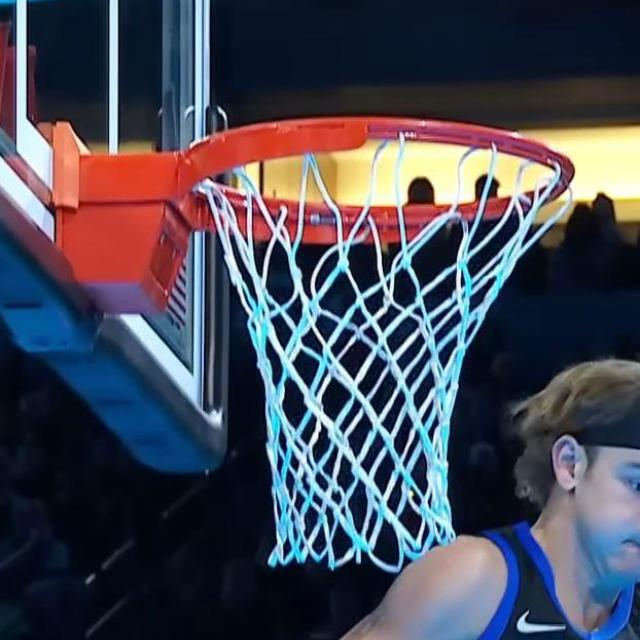hoop: (181, 100, 583, 596)
